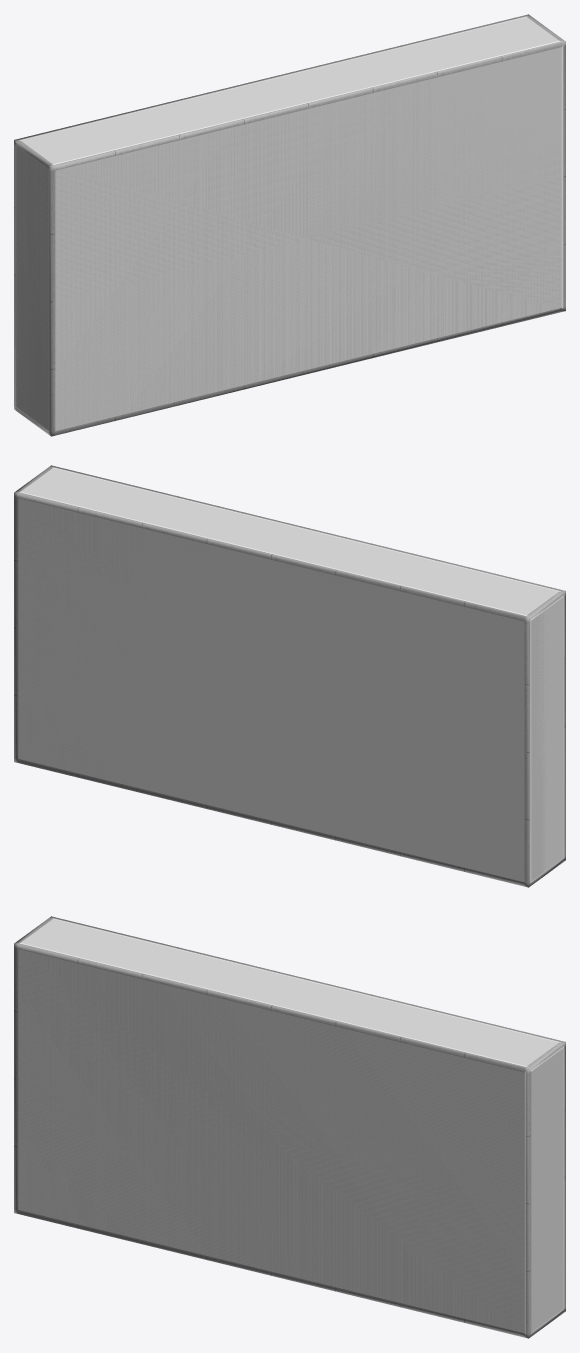
Rendered from s_gm_block_16mX2mX8m.dae.
3 views of the same model, one above another, from view 1: azimuth 30°, elevation 25°; view 2: azimuth 150°, elevation 25°; view 3: azimuth 330°, elevation 25° (orthographic).
Parts seen in each view (by area): view 1: s_gm_block_16mX2mX8m_a25, Colmesh_s_gm_block_16mX2mX8m-1, s_gm_block_16mX2mX8m_a100; view 2: s_gm_block_16mX2mX8m_a25, Colmesh_s_gm_block_16mX2mX8m-1, s_gm_block_16mX2mX8m_a100; view 3: Colmesh_s_gm_block_16mX2mX8m-1, s_gm_block_16mX2mX8m_a25, s_gm_block_16mX2mX8m_a100.
Part boxes in pixels (<box>): s_gm_block_16mX2mX8m_a25: <box>16,17,561,430</box>; Colmesh_s_gm_block_16mX2mX8m-1: <box>16,17,561,431</box>; s_gm_block_16mX2mX8m_a100: <box>14,14,565,436</box>; s_gm_block_16mX2mX8m_a25: <box>18,468,563,882</box>; Colmesh_s_gm_block_16mX2mX8m-1: <box>18,468,558,880</box>; s_gm_block_16mX2mX8m_a100: <box>14,465,565,887</box>; Colmesh_s_gm_block_16mX2mX8m-1: <box>18,920,563,1332</box>; s_gm_block_16mX2mX8m_a25: <box>18,919,558,1333</box>; s_gm_block_16mX2mX8m_a100: <box>14,916,565,1338</box>.
Size of the model in its own units: 16.01 by 2.01 by 8.01.
